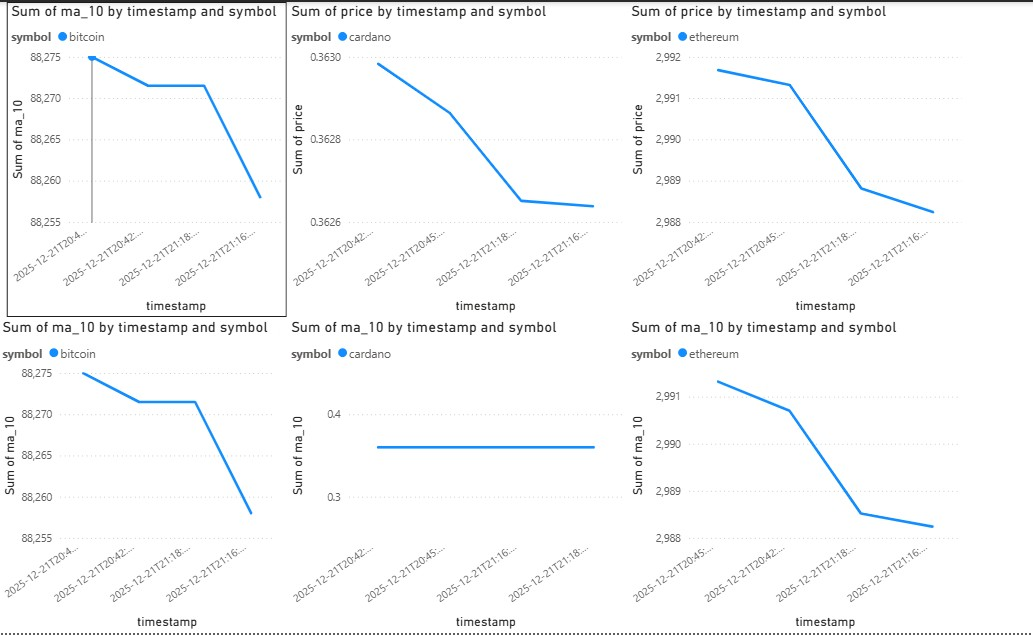

The dashboard page shown, as its layout file describes it:
{"tool":"powerbi","page":{"name":"Page 1","canvas":[1280,720],"ordinal":0},"visuals":[{"type":"lineChart","fields":{"Category":["symbol_bitcoin.timestamp"],"Series":["symbol_bitcoin.symbol"],"Y":["Sum(symbol_bitcoin.ma_10)"]},"box":[9.6,0,319.7,359.5],"z":0},{"type":"lineChart","fields":{"Y":["Sum(symbol_cardano.price)"],"Category":["symbol_cardano.timestamp"],"Series":["symbol_cardano.symbol"]},"box":[329.3,0,387,359.5],"z":1000},{"type":"lineChart","fields":{"Y":["Sum(symbol_ethereum.price)"],"Series":["symbol_ethereum.symbol"],"Category":["symbol_ethereum.timestamp"]},"box":[716.3,0,387,359.5],"z":2000},{"type":"lineChart","fields":{"Y":["Sum(symbol_bitcoin.ma_10)"],"Category":["symbol_bitcoin.timestamp"],"Series":["symbol_bitcoin.symbol"]},"box":[0,360.6,319.3,359.2],"z":2001},{"type":"lineChart","fields":{"Y":["Sum(symbol_cardano.ma_10)"],"Category":["symbol_cardano.timestamp"],"Series":["symbol_cardano.symbol"]},"box":[329.3,360.6,387.7,359.2],"z":2002},{"type":"lineChart","fields":{"Y":["Sum(symbol_ethereum.ma_10)"],"Category":["symbol_ethereum.timestamp"],"Series":["symbol_ethereum.symbol"]},"box":[717,360.6,386.3,359.2],"z":2003}]}

Visuals, with their boxes on the page's 1280x720 design canvas (x1, y1, x2, y2). These are canvas units, not pixel positions in the 1033x635 screenshot, which may show the page scaled, cropped or inside an application window:
lineChart - symbol_bitcoin.timestamp x symbol_bitcoin.symbol: (10, 0, 329, 360)
lineChart - Sum(symbol_cardano.price) x symbol_cardano.timestamp: (329, 0, 716, 360)
lineChart - Sum(symbol_ethereum.price) x symbol_ethereum.symbol: (716, 0, 1103, 360)
lineChart - Sum(symbol_bitcoin.ma_10) x symbol_bitcoin.timestamp: (0, 361, 319, 720)
lineChart - Sum(symbol_cardano.ma_10) x symbol_cardano.timestamp: (329, 361, 717, 720)
lineChart - Sum(symbol_ethereum.ma_10) x symbol_ethereum.timestamp: (717, 361, 1103, 720)
